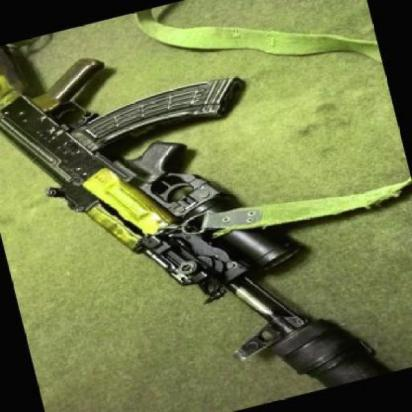Gun: (0, 55, 384, 385)
